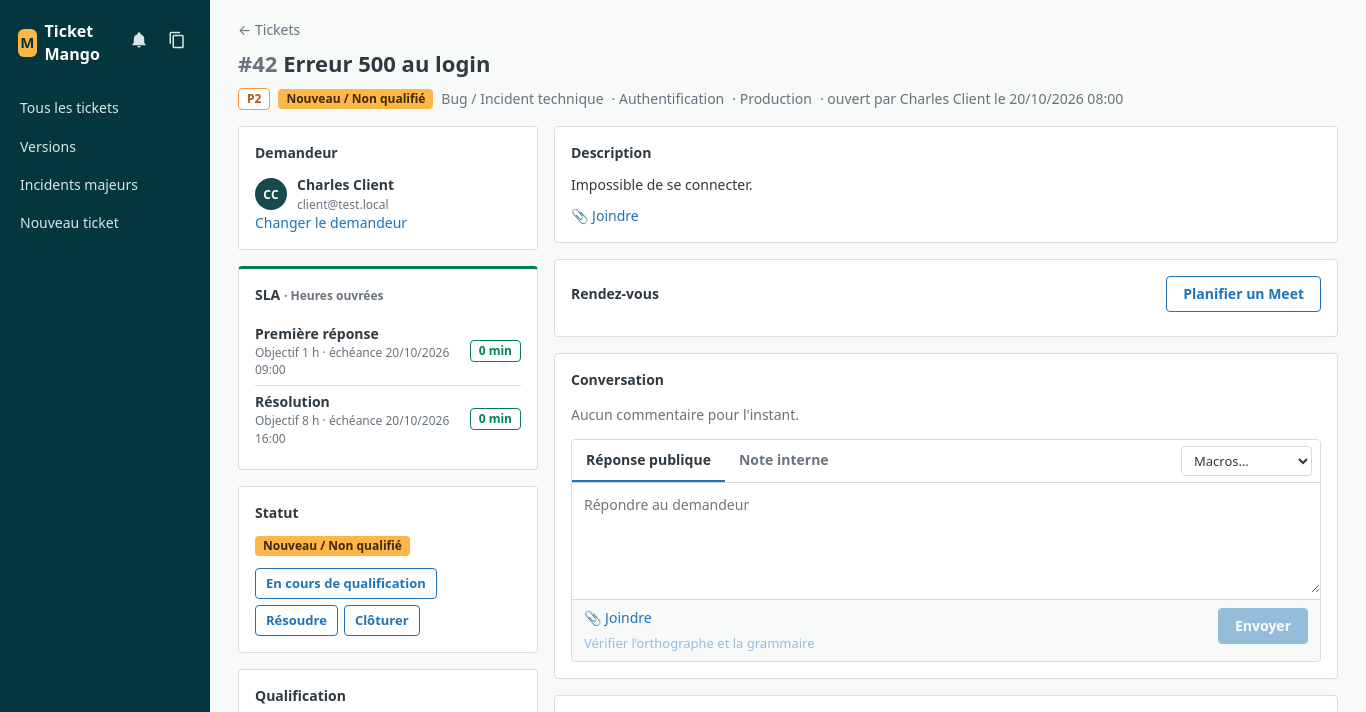
Scenario: rendez-vous › crée un Meet et prépare l’invitation dans la réponse
Click the button "Planifier un Meet". click: x=1244, y=294
box: [1166, 276, 1321, 312]
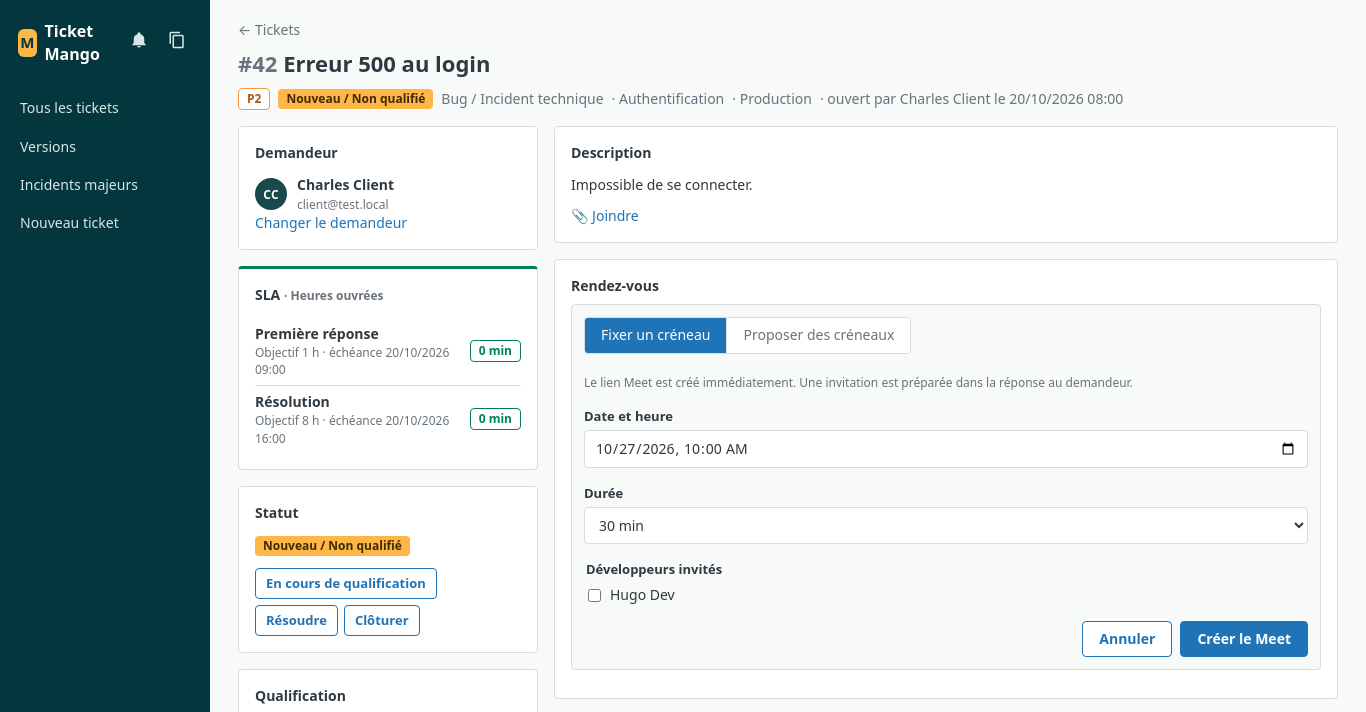
Click the checkbox labelled "Hugo Dev". click: x=594, y=595
box: [588, 588, 601, 602]
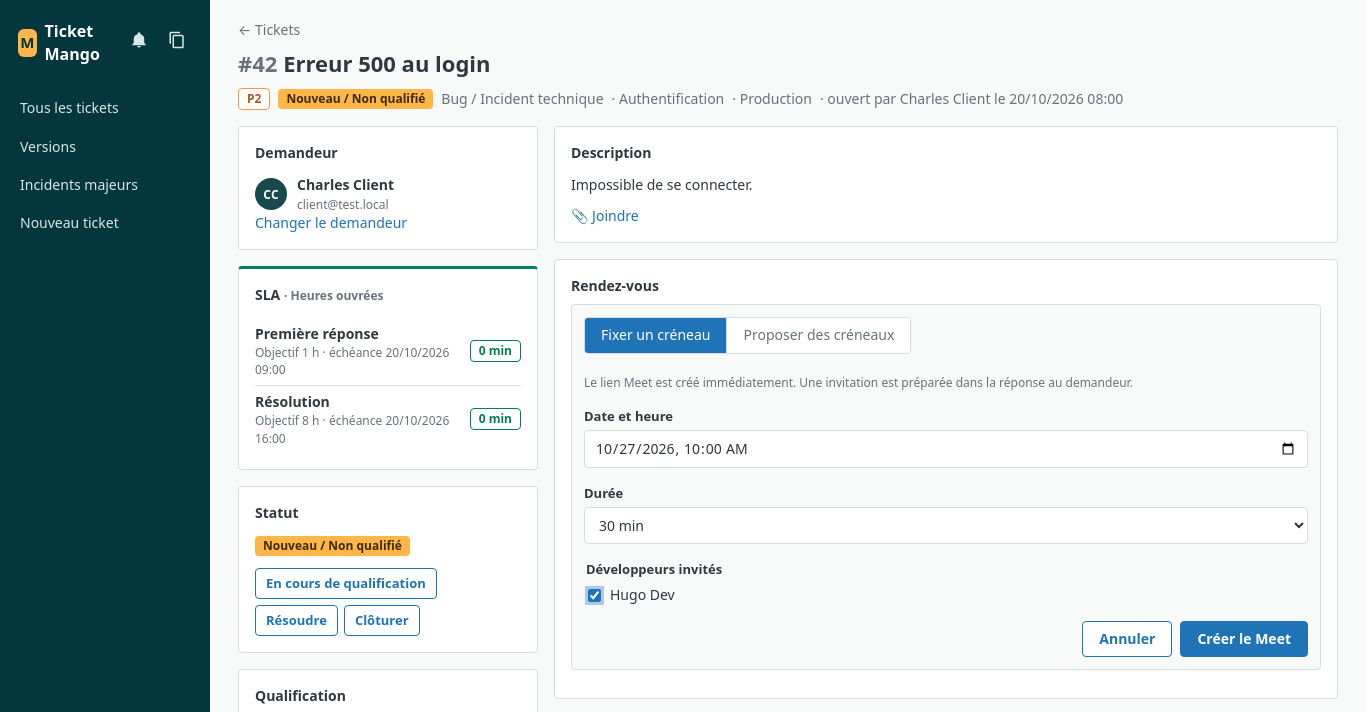
Click the button "Créer le Meet". click: x=1244, y=639
box: [1180, 621, 1308, 658]
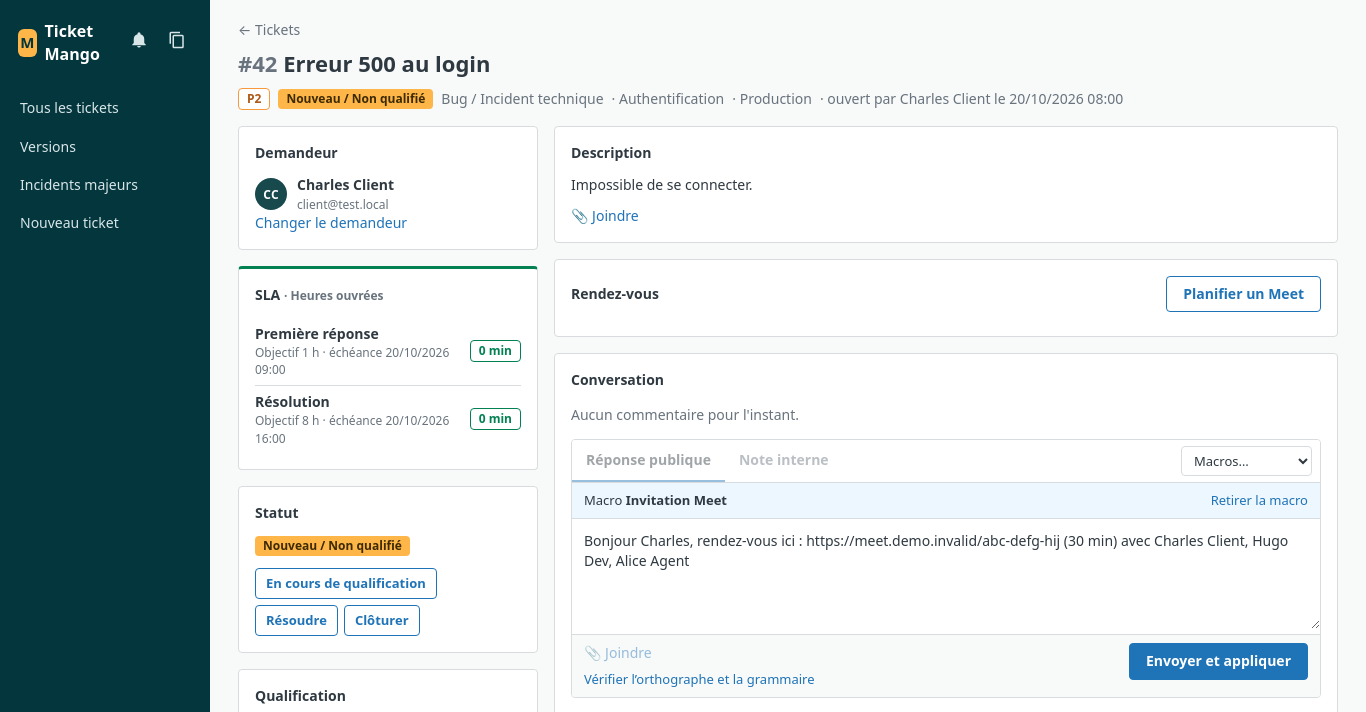
Now the text box named "Votre message" holds "Bonjour Charles, rendez-vous ici : https://meet.demo.invalid/abc-defg-hij (30 min) avec Charles Client, Hugo Dev, Alice Agent", box [572, 519, 1320, 629]
